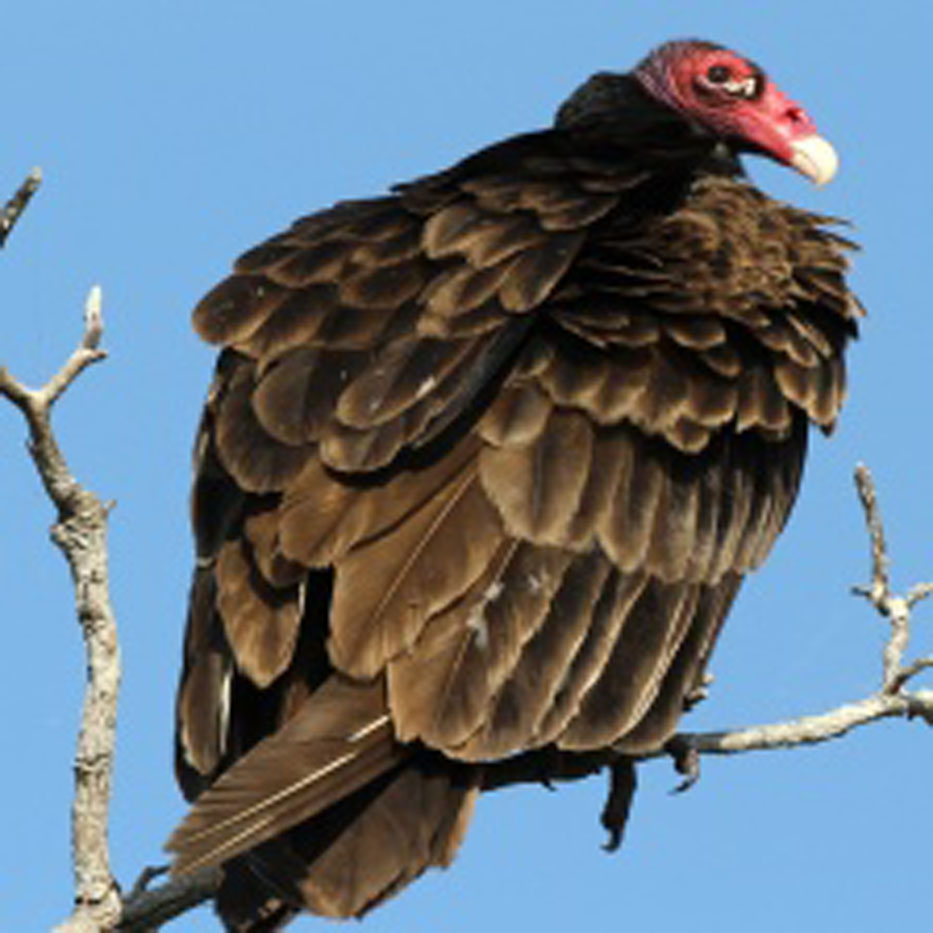Pengoyak Daging: (774, 122, 854, 198)
